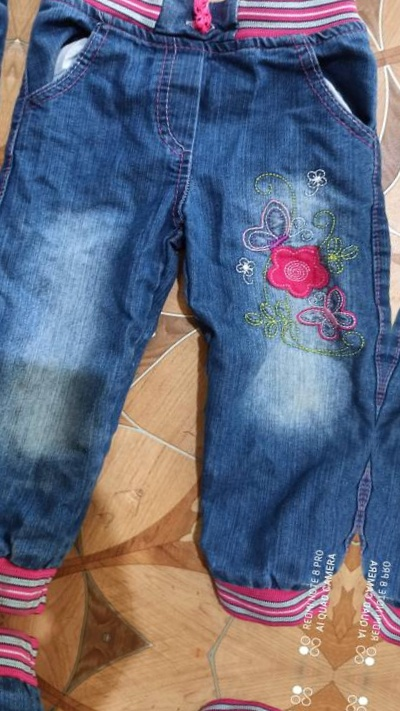Pants: (0, 0, 400, 604), (355, 17, 400, 674), (0, 0, 31, 536), (0, 679, 313, 711)
